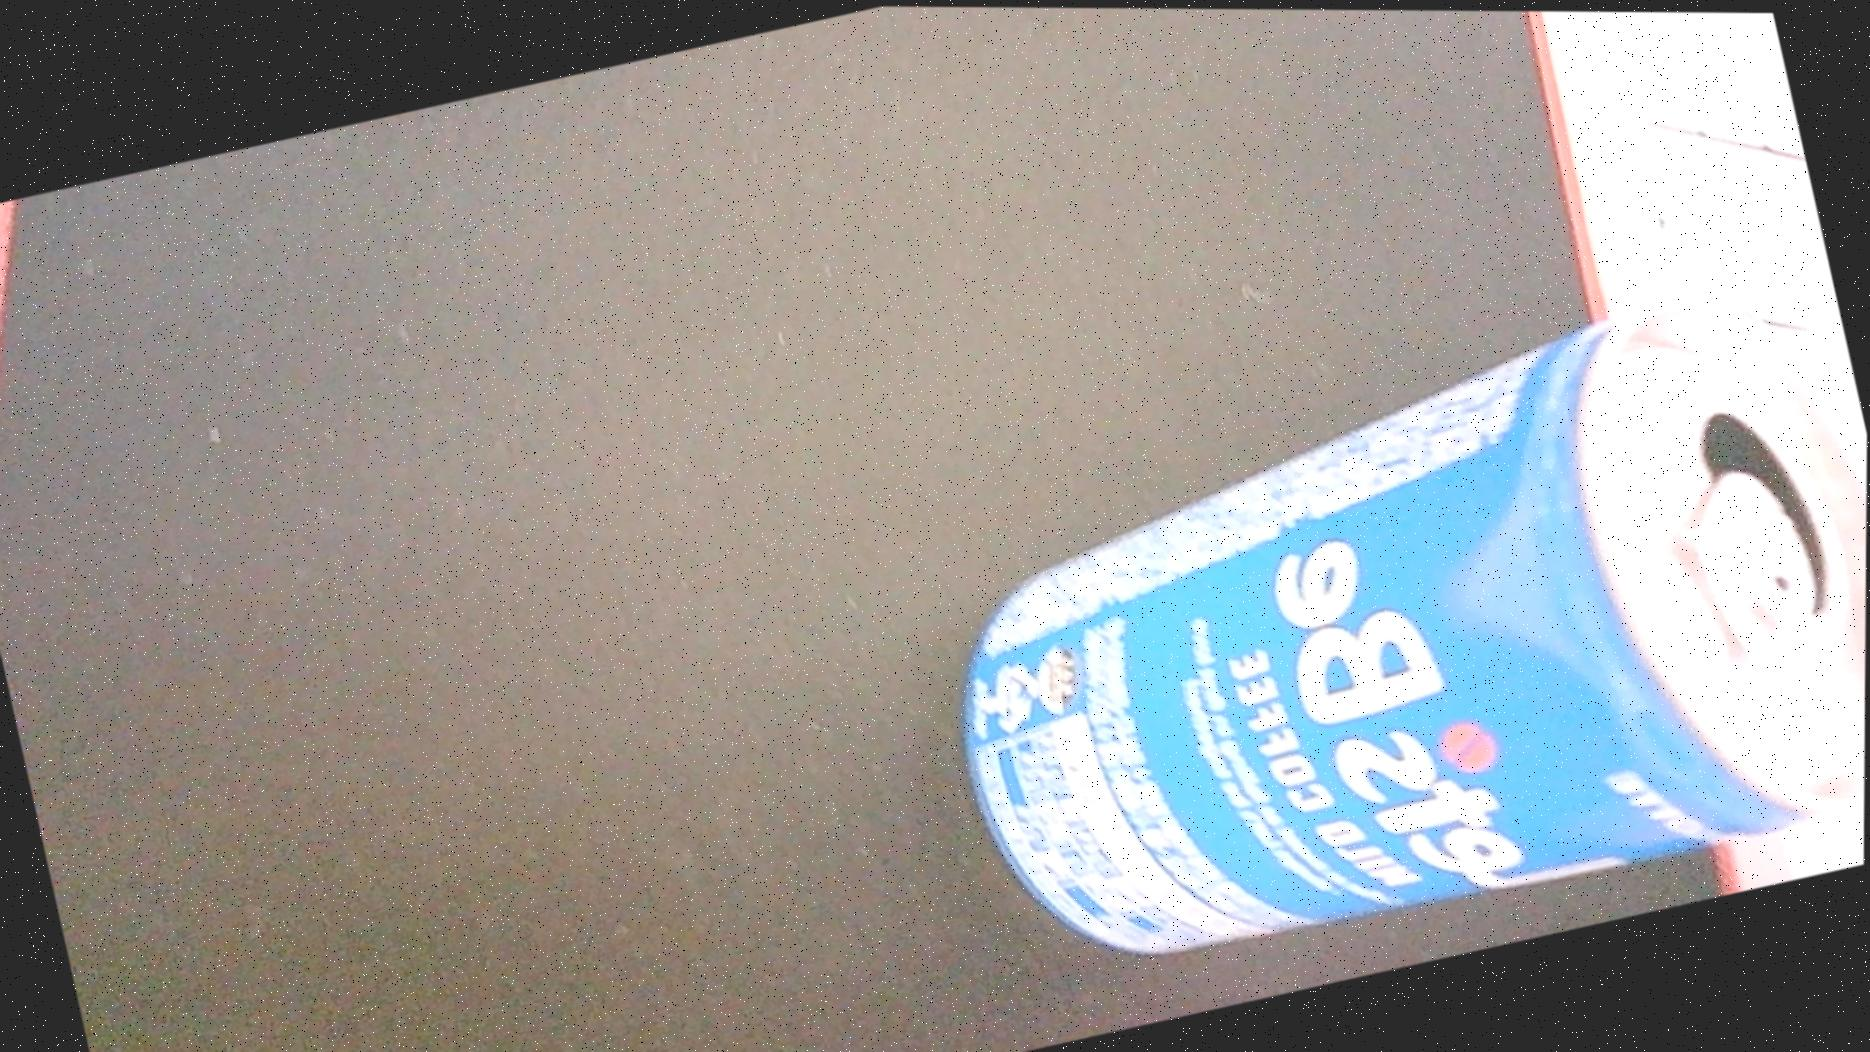letsbe: (896, 256, 1869, 1004)
